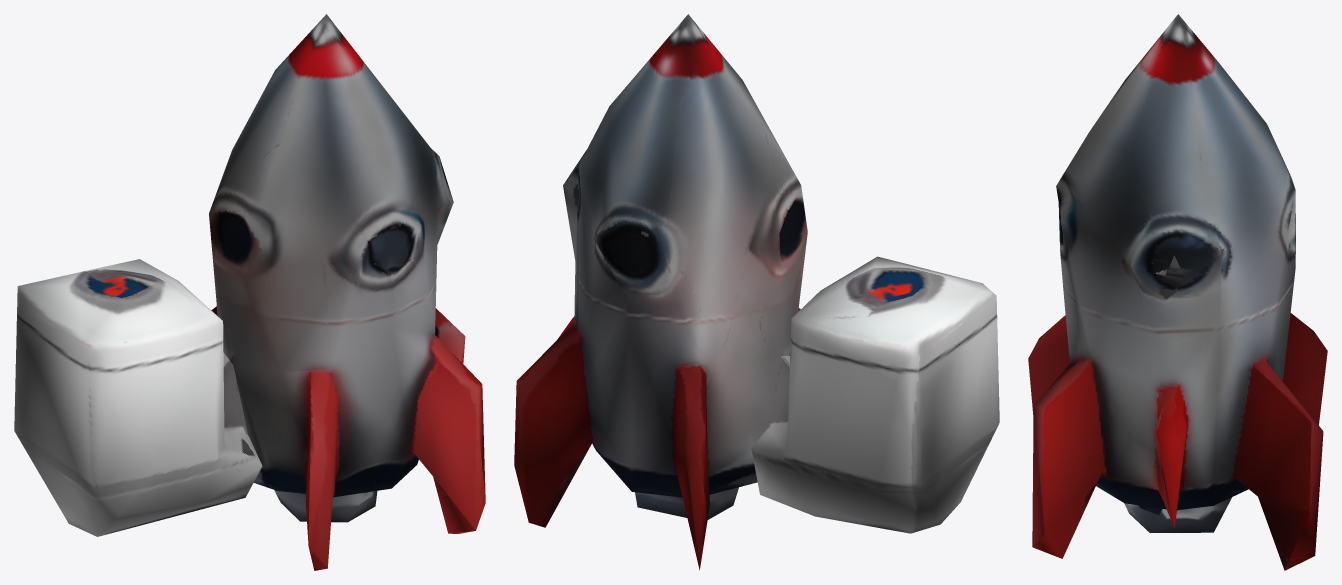
File: rocket-toilet.glb
The picture shows the model from 3 angles, left to right: view 1: azimuth 30°, elevation 25°; view 2: azimuth 150°, elevation 25°; view 3: azimuth 270°, elevation 25°; orthographic projection. The views are drawn at different scales.
Parts seen in each view (by area): view 1: geometry_0.001; view 2: geometry_0.001; view 3: geometry_0.001.
Boxes of the visible parts, x1,y1,x2,y2 form: geometry_0.001: (14,14,485,570); geometry_0.001: (514,14,999,569); geometry_0.001: (1028,14,1327,570).
Size of the model in its own units: 0.8635 by 1.01 by 0.5371.
1 material, 1 textured.
